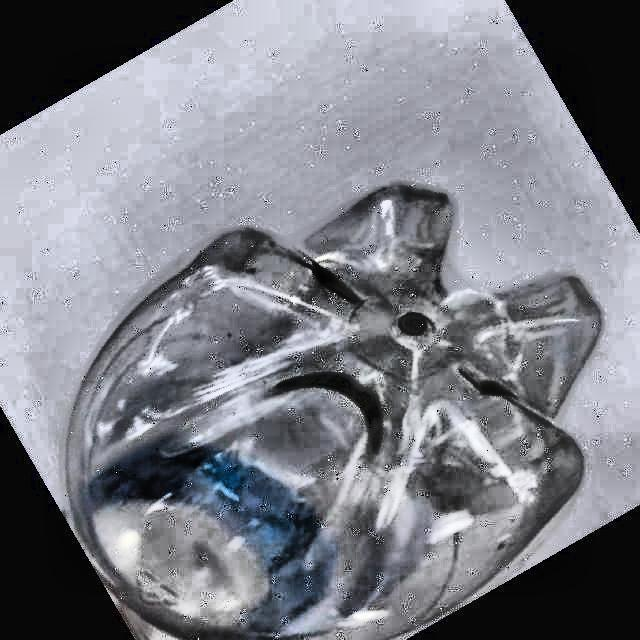plastic: (68, 185, 601, 640)
